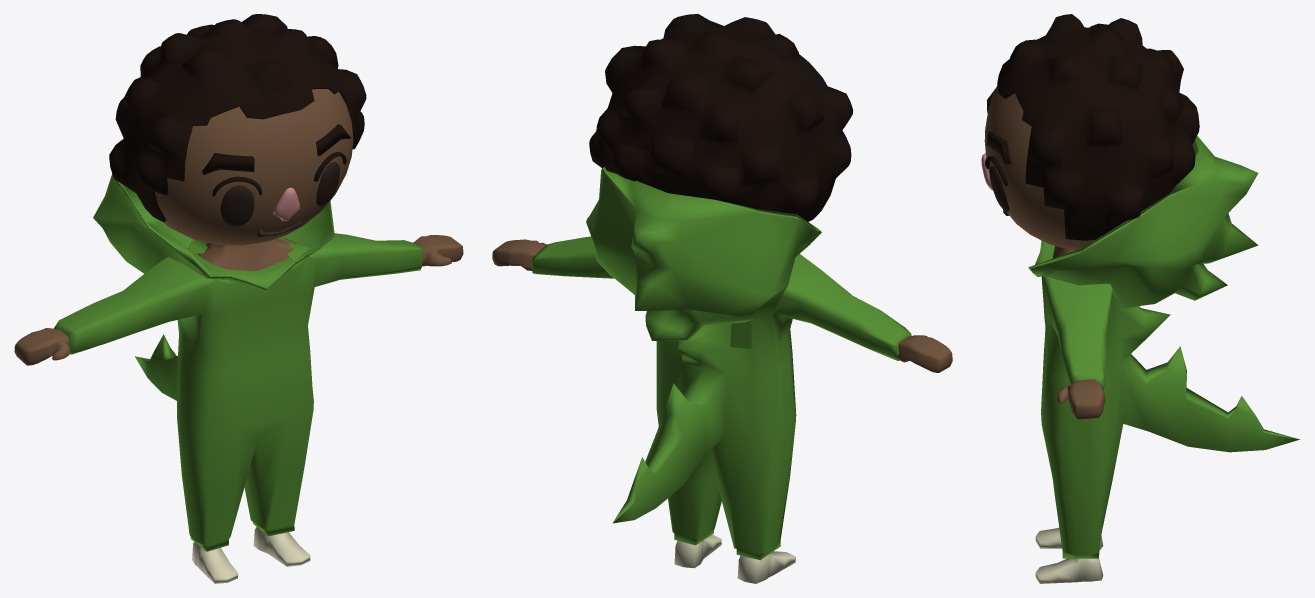
Rendered from WillithPourTech.fbx.
3 views of the same model, side by side, from view 1: azimuth 30°, elevation 25°; view 2: azimuth 150°, elevation 25°; view 3: azimuth 270°, elevation 25° (orthographic). The views are drawn at different scales.
Visible parts, largest first — view 1: Perso3Willith; view 2: Perso3Willith; view 3: Perso3Willith.
Boxes of the visible parts, <box> form: Perso3Willith: <box>14,14,463,583</box>; Perso3Willith: <box>492,14,952,583</box>; Perso3Willith: <box>981,14,1300,583</box>.
Size of the model in its own units: 1.34 by 1.53 by 0.8372.
